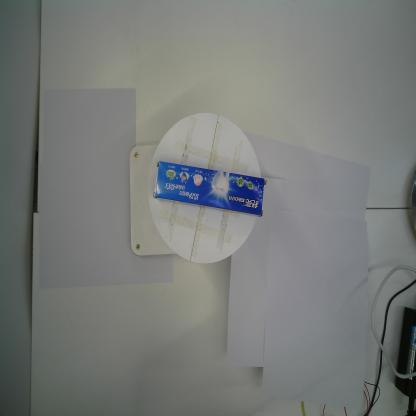Personal Hygiene: (152, 160, 269, 220)
